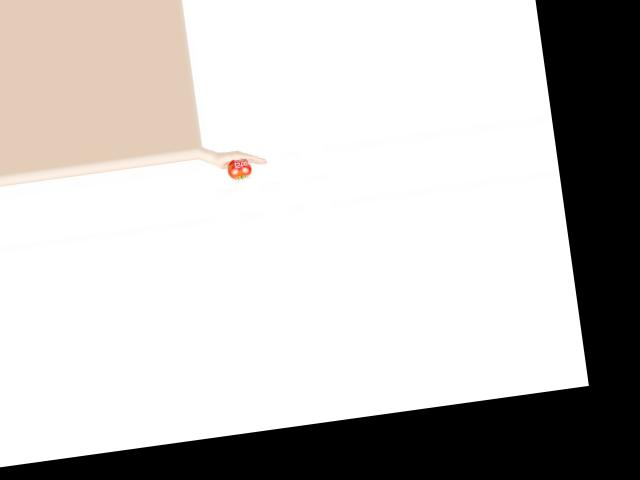tomato: (226, 157, 253, 180)
